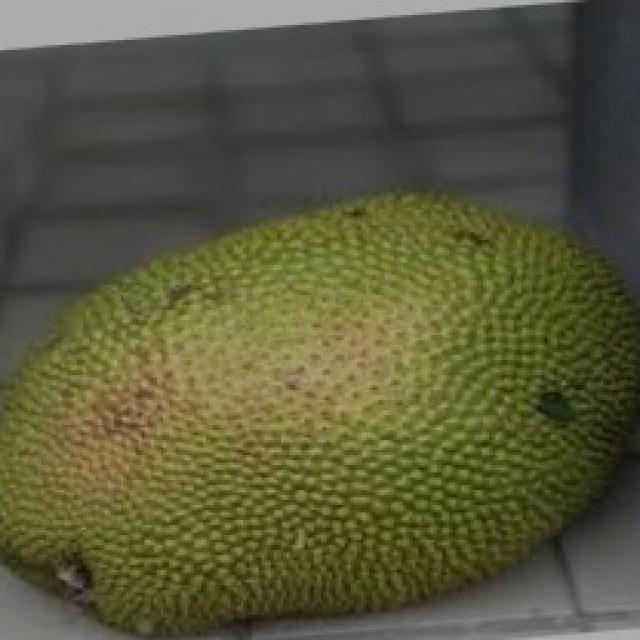Fruit: (255, 160, 640, 630), (0, 210, 397, 638)
